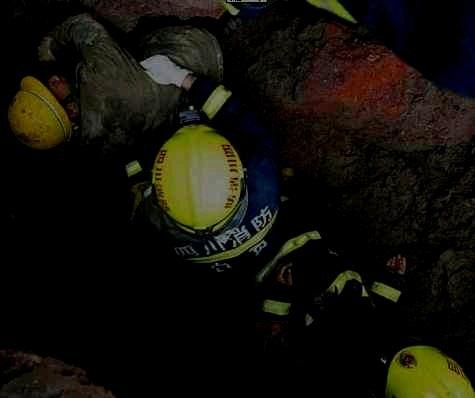helmet: (151, 124, 245, 235), (8, 70, 81, 151), (382, 346, 471, 398)
